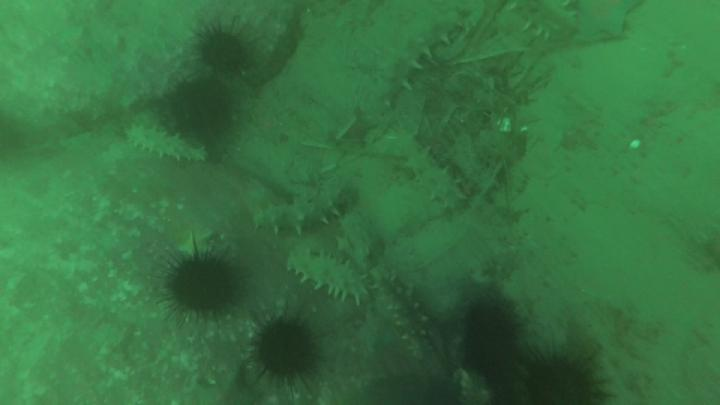echinus: (466, 303, 522, 378), (168, 254, 236, 314), (172, 83, 236, 140), (261, 322, 318, 378), (529, 357, 593, 405), (203, 29, 247, 74)
holothurian: (371, 16, 465, 112), (373, 268, 436, 362), (396, 134, 460, 207), (288, 252, 368, 306), (126, 127, 208, 165), (254, 206, 331, 238)
starfish: (577, 2, 646, 42)
